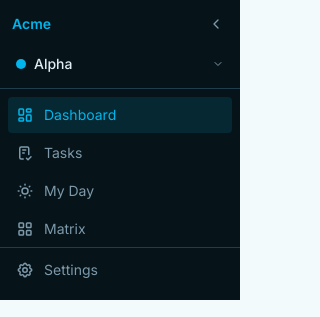
Test: Sidebar › re-expands after collapsing
The width and height of the screenshot is (320, 317).
Click the button named "Collapse sidebar".
click(216, 24)  # box [204,12,228,36]
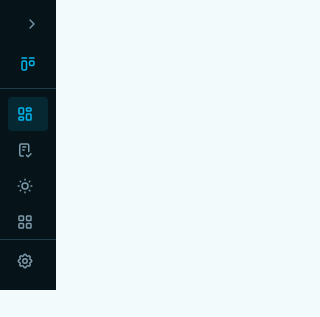
Click the button named "Expand sidebar".
click(32, 24)  # box [20,12,44,36]
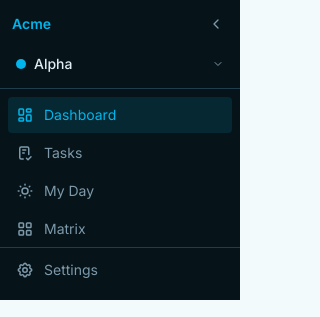
Expected: the text "Dashboard" is shown, [44,105,116,125]
